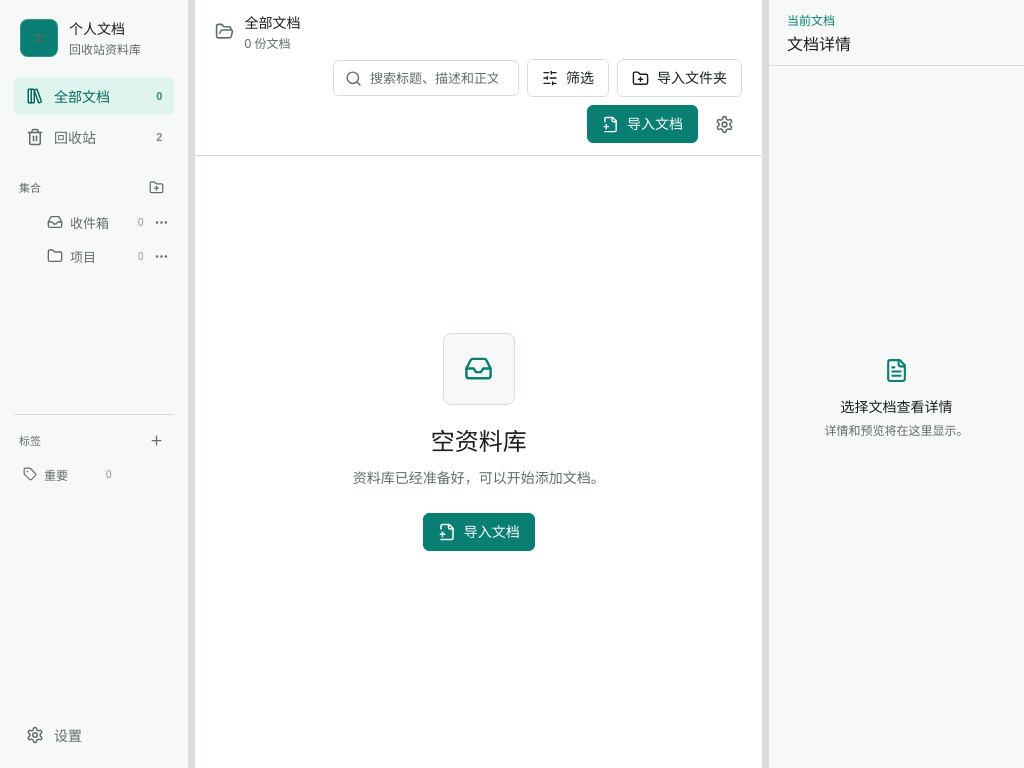
Scenario: 回收站、恢复与永久删除 › shows the trash count, confirms emptying, and recovers from a failure
Click the button "回收站 2".
click(94, 137)  # box [14,118,174,156]
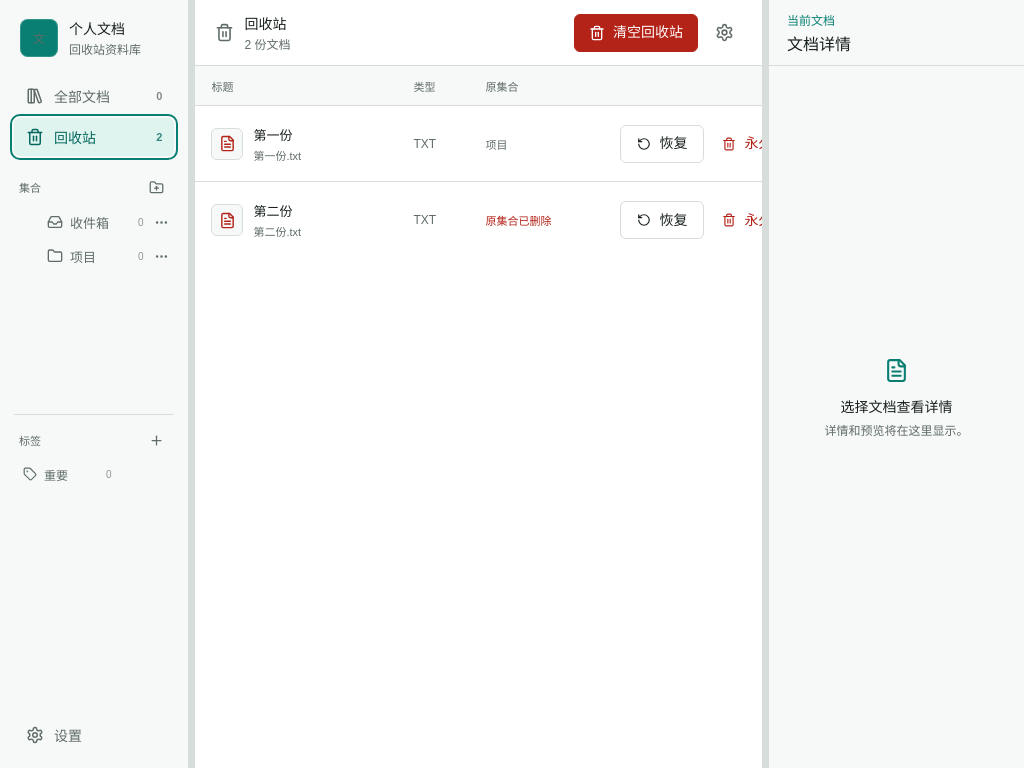
Result: the text "原集合已删除" is shown at [485,215,551,227]
Click the button "清空回收站".
click(636, 32)  # box [574,14,698,52]
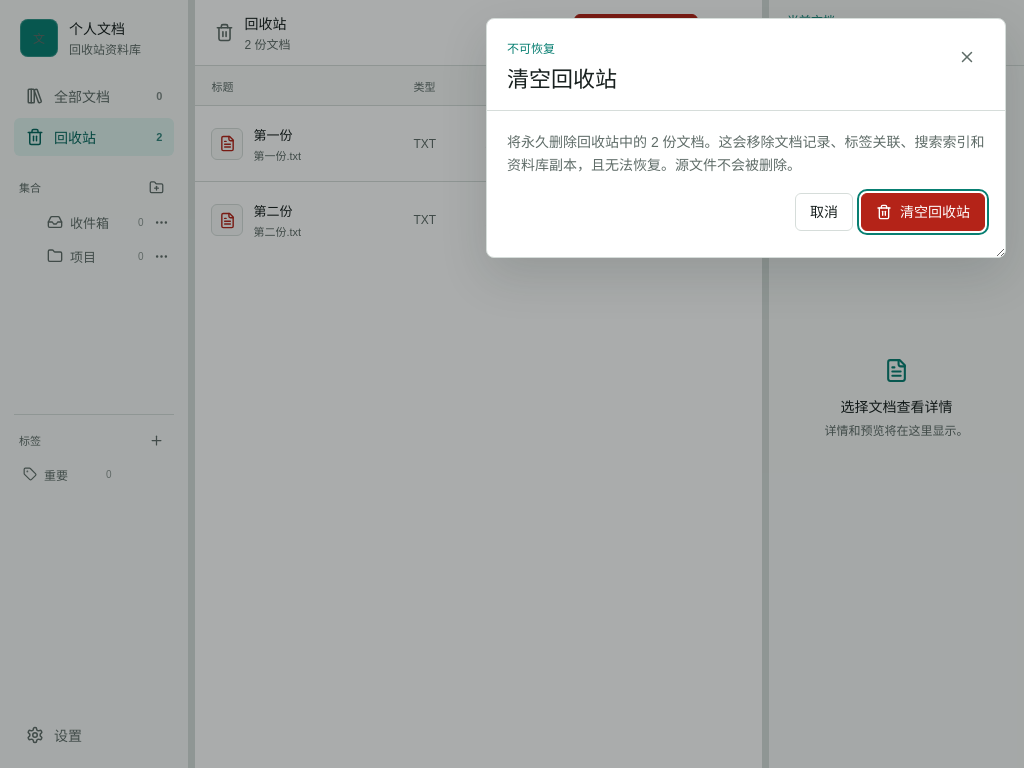
Result: the dialog "清空回收站" shows "2 份文档" at [507,134,985,173]
Click the button "清空回收站".
click(923, 212)  # box [861,193,985,231]
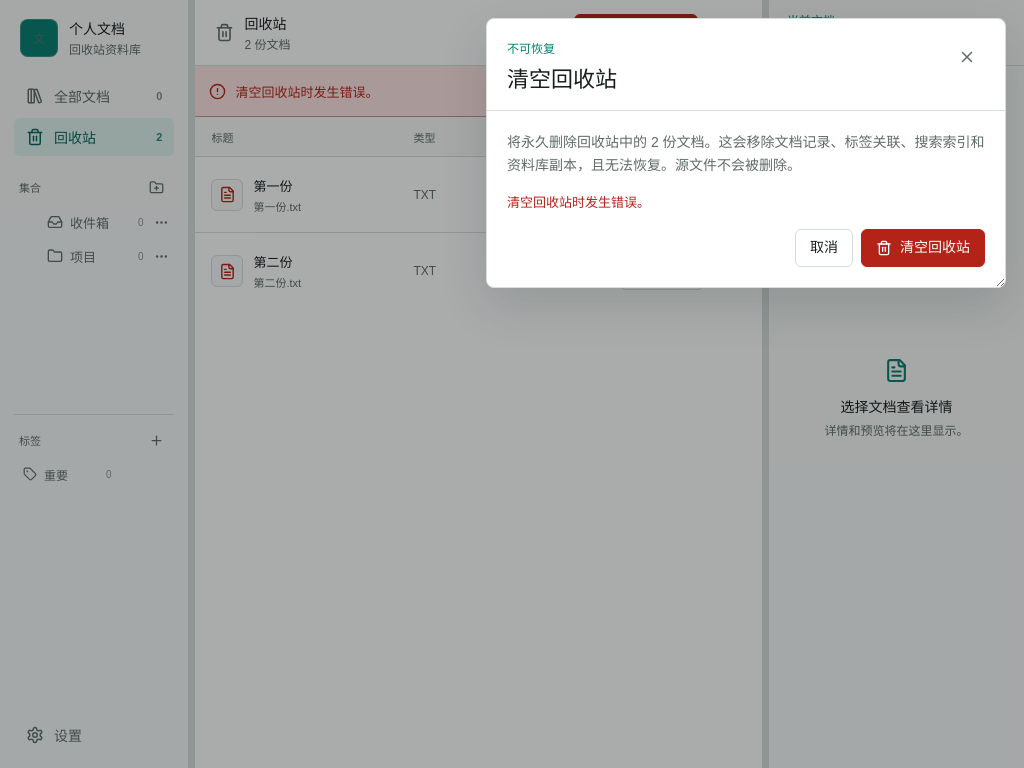
Result: the message reads "清空回收站时发生错误。" at [507,195,650,210]
Click the button "清空回收站".
click(923, 248)  # box [861,229,985,267]
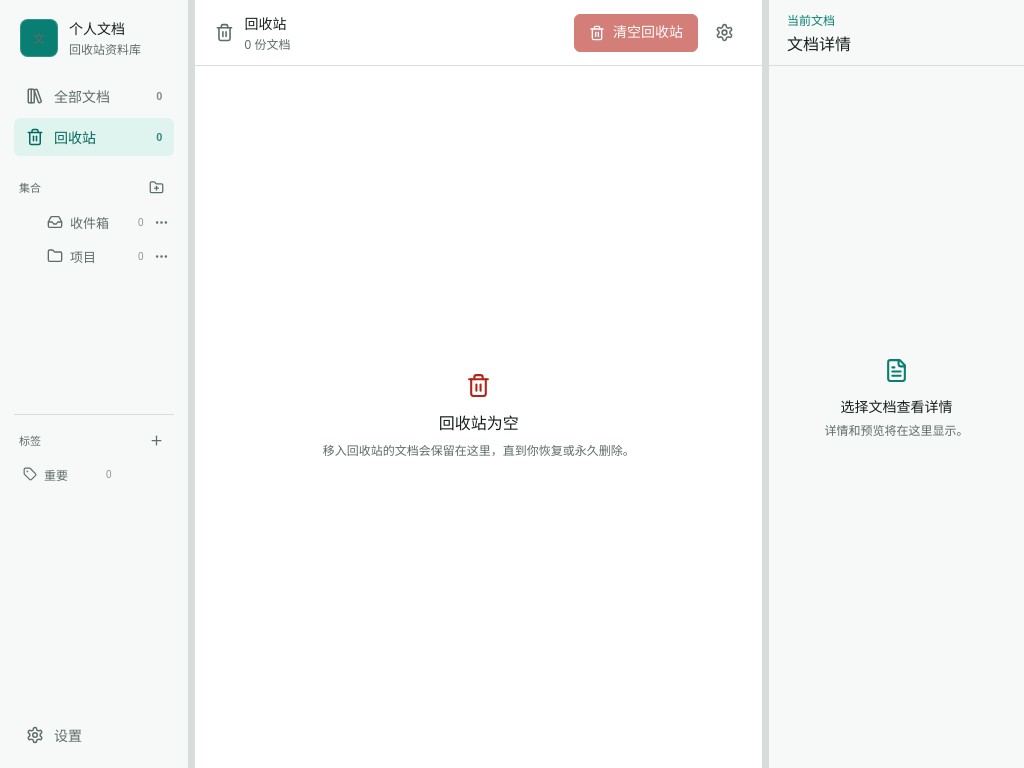
Result: the heading "回收站为空" is shown at [439,410,519,434]
